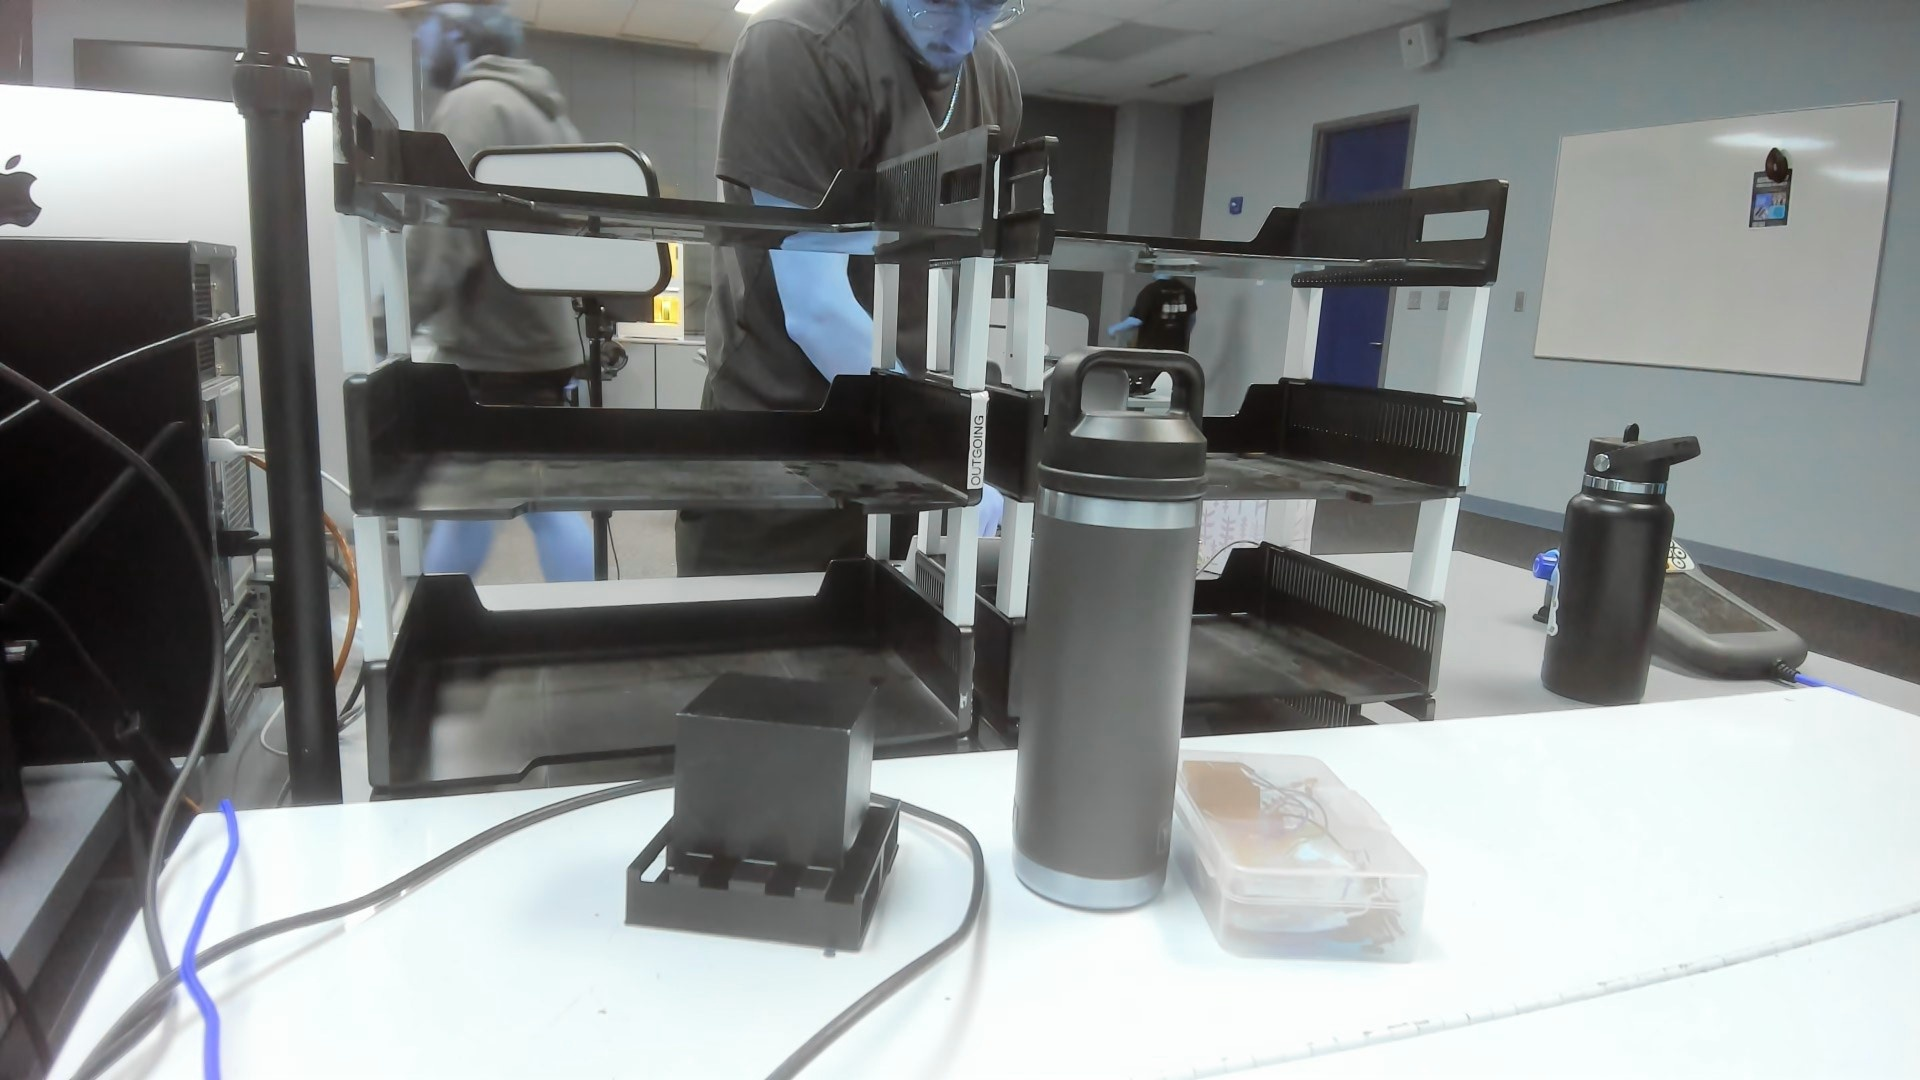black pallet: (617, 665, 910, 957)
